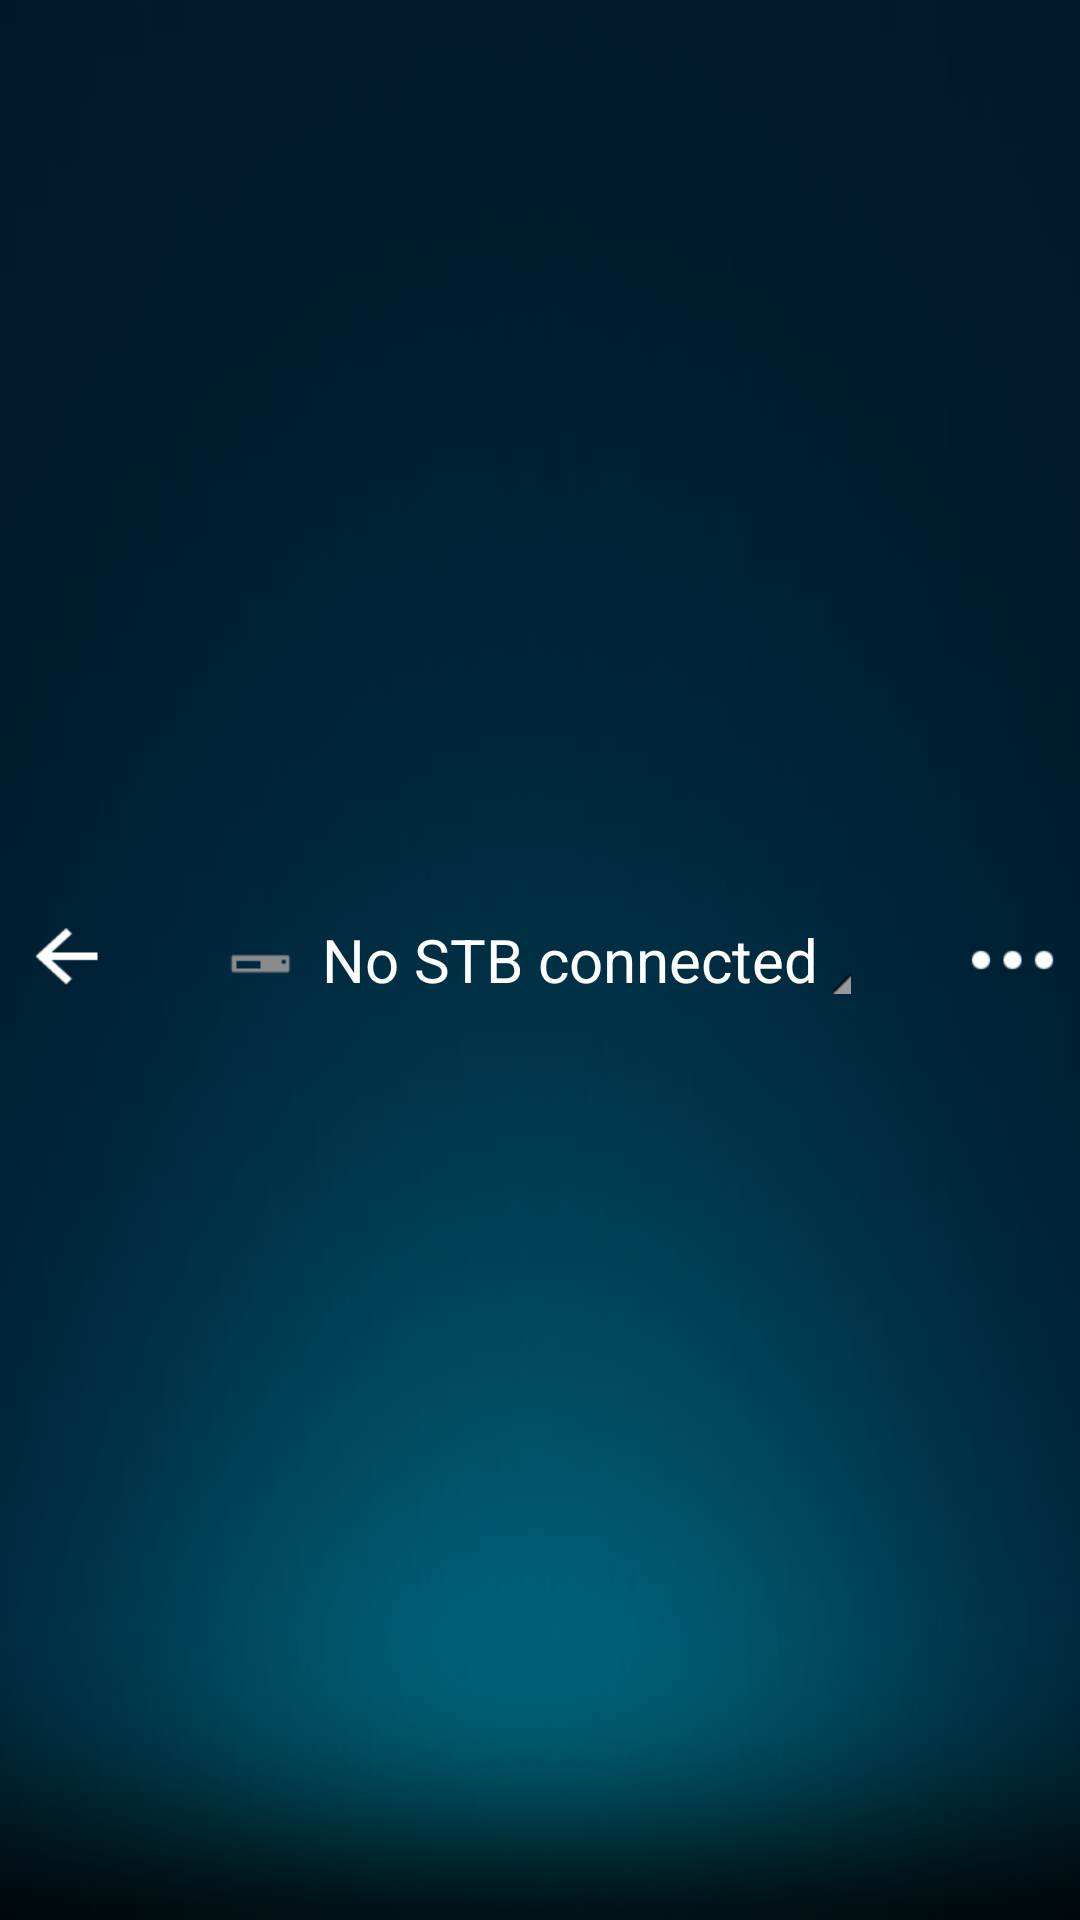

Screen size 1080*1920. Icon name, then its box in pixels as box=[x1, y1, x2, y2]:
device disconnected: box=[231, 955, 290, 973]
remote status back: box=[35, 928, 98, 985]
